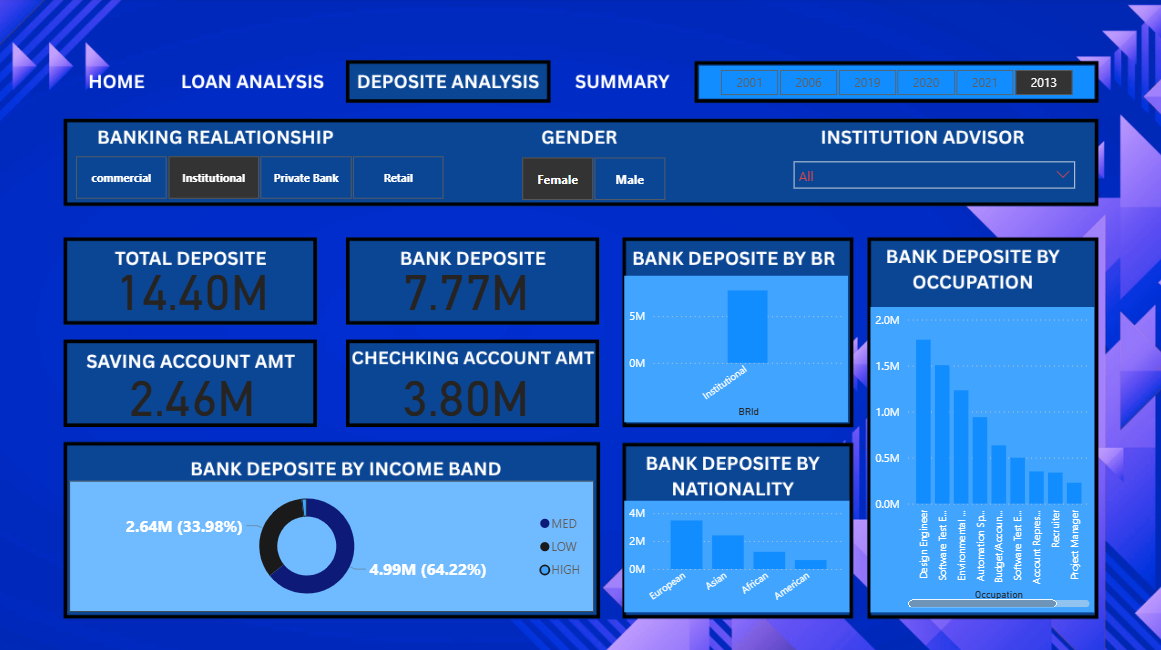

What the dashboard file says about the page in this screenshot:
{"tool":"powerbi","page":{"name":"DEPOSITE ANALYSIS","canvas":[1280,720],"ordinal":2},"visuals":[{"type":"slicer","fields":{"Values":["Query1.Year of Joining"]},"box":[769.8,75.5,433.6,35.7],"z":0},{"type":"actionButton","box":[78.2,71.4,100.2,39.8],"z":1000},{"type":"actionButton","box":[388.3,71.4,219.6,39.8],"z":2000},{"type":"actionButton","box":[628.5,71.4,116.6,39.8],"z":3000},{"type":"card","fields":{"Values":["Query1.Total Deposite"]},"box":[97.4,285.4,230.5,64.5],"z":4000},{"type":"card","fields":{"Values":["Sum(Query1.Bank Deposits)"]},"box":[397.9,285.4,230.5,64.5],"z":5000},{"type":"card","fields":{"Values":["Sum(Query1.Saving Accounts)"]},"box":[97.4,402.1,230.5,64.5],"z":6000},{"type":"card","fields":{"Values":["Sum(Query1.Checking Accounts)"]},"box":[397.9,402.1,230.5,64.5],"z":7000},{"type":"donutChart","fields":{"Category":["Query1.Income Band"],"Y":["Sum(Query1.Bank Deposits)"]},"box":[78.2,531,576.3,144.1],"z":8000},{"type":"clusteredColumnChart","fields":{"Category":["Query1.BRId"],"Y":["Sum(Query1.Bank Deposits)"]},"box":[687.5,306,245.6,160.5],"z":9000},{"type":"clusteredColumnChart","fields":{"Category":["Query1.Nationality"],"Y":["Sum(Query1.Bank Deposits)"]},"box":[687.5,553,247,122.1],"z":10000},{"type":"clusteredColumnChart","fields":{"Category":["Query1.Occupation"],"Y":["Sum(Query1.Bank Deposits)"]},"box":[957.8,340.3,245.6,334.8],"z":11000},{"type":"slicer","fields":{"Values":["Query1.BRId"]},"box":[61.7,170.2,451.5,56.3],"z":12000},{"type":"slicer","fields":{"Values":["Query1.GenderId"]},"box":[551.6,171.5,204.5,56.3],"z":13000},{"type":"slicer","fields":{"Values":["Query1.IAId"]},"box":[863.1,170.2,329.3,45.3],"z":14000},{"type":"actionButton","box":[197.6,71.4,168.8,39.8],"z":15000}]}

Visuals, with their boxes in screenshot pixels (x1, y1, x2, y2), scaled from the page's 1280x720 canvas onto the 1161x650 screenshot:
slicer - Query1.Year of Joining: <bbox>698, 68, 1092, 100</bbox>
actionButton: <bbox>71, 64, 162, 100</bbox>
actionButton: <bbox>352, 64, 551, 100</bbox>
actionButton: <bbox>570, 64, 676, 100</bbox>
card - Query1.Total Deposite: <bbox>88, 258, 297, 316</bbox>
card - Sum(Query1.Bank Deposits): <bbox>361, 258, 570, 316</bbox>
card - Sum(Query1.Saving Accounts): <bbox>88, 363, 297, 421</bbox>
card - Sum(Query1.Checking Accounts): <bbox>361, 363, 570, 421</bbox>
donutChart - Query1.Income Band x Sum(Query1.Bank Deposits): <bbox>71, 479, 594, 609</bbox>
clusteredColumnChart - Query1.BRId x Sum(Query1.Bank Deposits): <bbox>624, 276, 846, 421</bbox>
clusteredColumnChart - Query1.Nationality x Sum(Query1.Bank Deposits): <bbox>624, 499, 848, 609</bbox>
clusteredColumnChart - Query1.Occupation x Sum(Query1.Bank Deposits): <bbox>869, 307, 1092, 609</bbox>
slicer - Query1.BRId: <bbox>56, 154, 465, 204</bbox>
slicer - Query1.GenderId: <bbox>500, 155, 686, 206</bbox>
slicer - Query1.IAId: <bbox>783, 154, 1082, 195</bbox>
actionButton: <bbox>179, 64, 332, 100</bbox>
